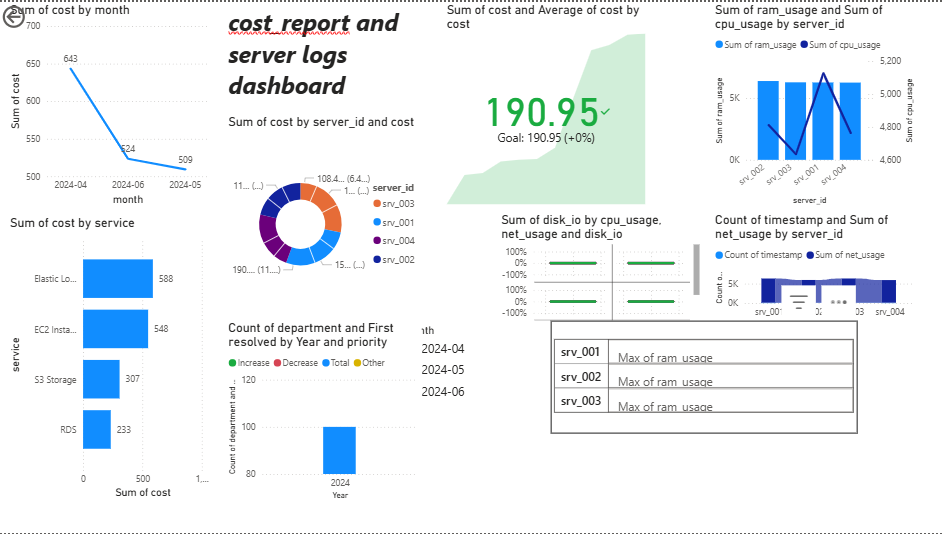

This screenshot's page, from the dashboard's own definition file:
{"tool":"powerbi","page":{"name":"Page 2","canvas":[1280,720],"ordinal":1},"visuals":[{"type":"lineChart","fields":{"Y":["Sum(infrasense_ai cost_report.cost)"],"Category":["infrasense_ai cost_report.month"]},"box":[10,0,280,280],"z":0},{"type":"clusteredBarChart","fields":{"Category":["infrasense_ai cost_report.service"],"Y":["Sum(infrasense_ai cost_report.cost)"]},"box":[9.1,290.9,281.7,387.8],"z":1000},{"type":"donutChart","fields":{"Category":["infrasense_ai cost_report.server_id"],"Series":["infrasense_ai cost_report.cost"],"Y":["Sum(infrasense_ai cost_report.cost)"]},"box":[305.5,151.8,279.9,279.9],"z":2000},{"type":"kpi","fields":{"Indicator":["Sum(infrasense_ai cost_report.cost)"],"TrendLine":["infrasense_ai cost_report.cost"],"Goal":["Avg(infrasense_ai cost_report.cost)"]},"box":[601.9,0,279.9,279.9],"z":3000},{"type":"slicer","fields":{"Values":["infrasense_ai cost_report.month"]},"box":[536,432,280,152],"z":4000},{"type":"actionButton","box":[0,0,100,40],"z":5000},{"type":"hundredPercentStackedAreaChart","fields":{"Category":["infrasense_ai server_logs.cpu_usage"],"Y":["Sum(infrasense_ai server_logs.disk_io)"],"Series":["infrasense_ai server_logs.net_usage"],"Rows":["infrasense_ai server_logs.disk_io"]},"box":[675,285.4,279.9,151.8],"z":6000},{"type":"lineClusteredColumnComboChart","fields":{"Category":["infrasense_ai server_logs.server_id"],"Y":["Sum(infrasense_ai server_logs.ram_usage)"],"Y2":["Sum(infrasense_ai server_logs.cpu_usage)"]},"box":[965,0,280,280],"z":7000},{"type":"ribbonChart","fields":{"Category":["infrasense_ai server_logs.server_id"],"Y":["CountNonNull(infrasense_ai server_logs.timestamp)","Sum(infrasense_ai server_logs.net_usage)"]},"box":[965,285,280,152],"z":8000},{"type":"waterfallChart","fields":{"Category":["infrasense_ai helpdesk_tickets.timestamp.Variation.Date Hierarchy.Year","infrasense_ai helpdesk_tickets.timestamp.Variation.Date Hierarchy.Quarter","infrasense_ai helpdesk_tickets.timestamp.Variation.Date Hierarchy.Month","infrasense_ai helpdesk_tickets.timestamp.Variation.Date Hierarchy.Day"],"Breakdown":["infrasense_ai helpdesk_tickets.priority"],"Y":["CountNonNull(infrasense_ai helpdesk_tickets.department)"]},"box":[306,432,267,247],"z":9000},{"type":"cardVisual","fields":{"Data":["Max(infrasense_ai server_logs.ram_usage)"],"Rows":["infrasense_ai server_logs.server_id"]},"box":[748,432,416,152],"z":10000},{"type":"textbox","box":[306,0,280,152],"z":10001}]}

Visuals, with their boxes in screenshot pixels (x1, y1, x2, y2), scaled from the page's 1280x720 canvas onto the 943x534 screenshot:
lineChart - Sum(infrasense_ai cost_report.cost) x infrasense_ai cost_report.month: Rect(7, 0, 214, 208)
clusteredBarChart - infrasense_ai cost_report.service x Sum(infrasense_ai cost_report.cost): Rect(7, 216, 214, 503)
donutChart - infrasense_ai cost_report.server_id x infrasense_ai cost_report.cost: Rect(225, 113, 431, 320)
kpi - Sum(infrasense_ai cost_report.cost) x infrasense_ai cost_report.cost: Rect(443, 0, 650, 208)
slicer - infrasense_ai cost_report.month: Rect(395, 320, 601, 433)
actionButton: Rect(0, 0, 74, 30)
hundredPercentStackedAreaChart - infrasense_ai server_logs.cpu_usage x Sum(infrasense_ai server_logs.disk_io): Rect(497, 212, 703, 324)
lineClusteredColumnComboChart - infrasense_ai server_logs.server_id x Sum(infrasense_ai server_logs.ram_usage): Rect(711, 0, 917, 208)
ribbonChart - infrasense_ai server_logs.server_id x CountNonNull(infrasense_ai server_logs.timestamp): Rect(711, 211, 917, 324)
waterfallChart - infrasense_ai helpdesk_tickets.timestamp.Variation.Date Hierarchy.Year x infrasense_ai helpdesk_tickets.timestamp.Variation.Date Hierarchy.Quarter: Rect(225, 320, 422, 504)
cardVisual - Max(infrasense_ai server_logs.ram_usage) x infrasense_ai server_logs.server_id: Rect(551, 320, 858, 433)
textbox: Rect(225, 0, 432, 113)
